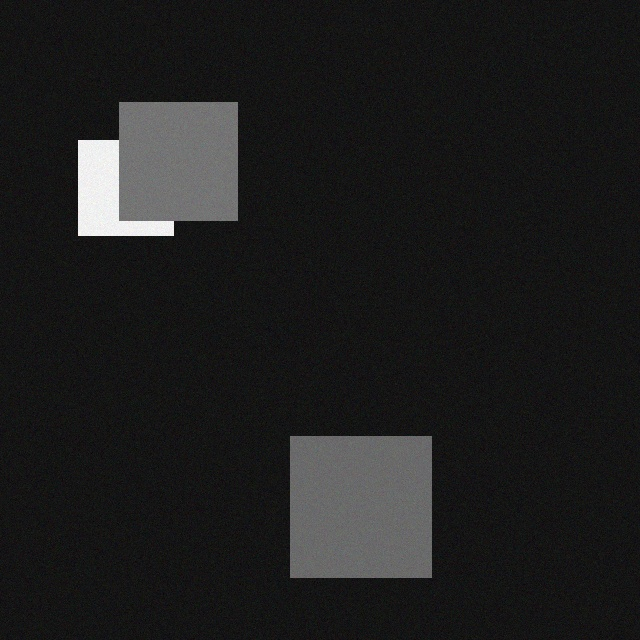square: (296, 443, 437, 584), (125, 109, 243, 227), (84, 147, 179, 242)
